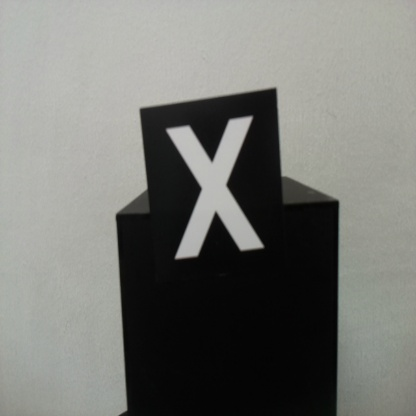id_13: (139, 107, 282, 277)
